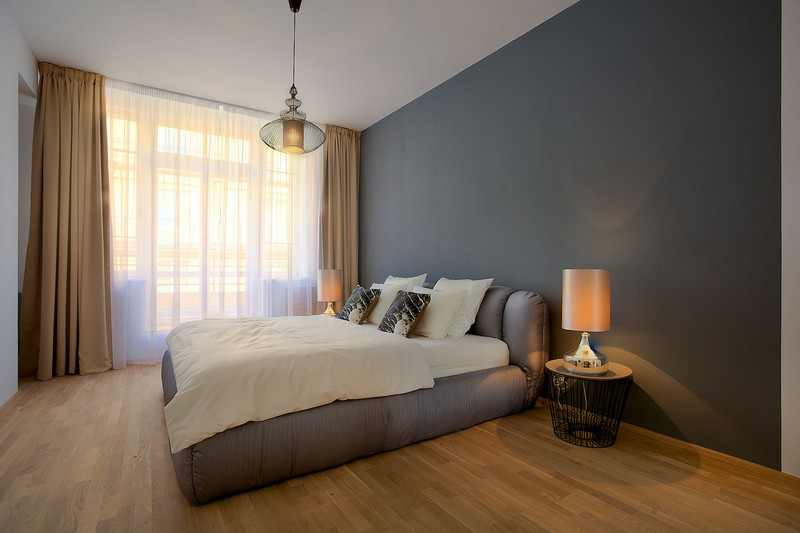bed: (160, 275, 544, 492)
lamp: (558, 266, 615, 377)
stool: (544, 353, 628, 450), (315, 267, 344, 315)
